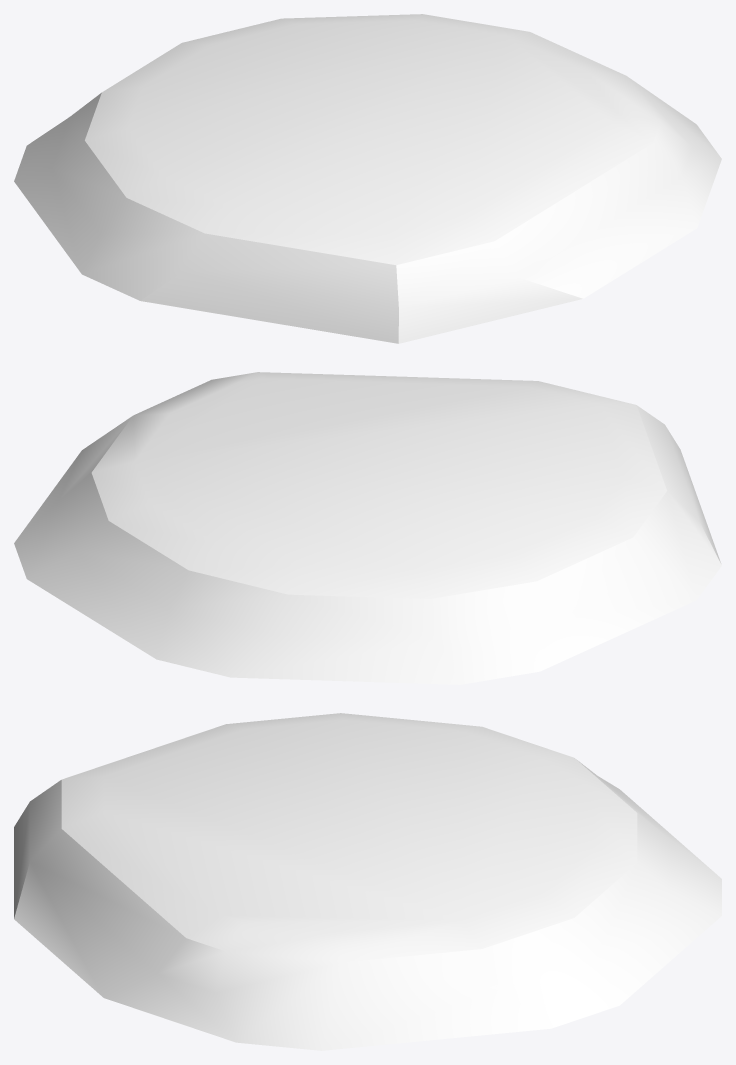
Rendered from RockSmall003.fbx.
3 views of the same model, one above another, from view 1: azimuth 30°, elevation 25°; view 2: azimuth 150°, elevation 25°; view 3: azimuth 270°, elevation 25° (orthographic). The views are drawn at different scales.
Visible parts, largest first — view 1: RockSmall003; view 2: RockSmall003; view 3: RockSmall003.
Part boxes in pixels (x1,y1,x2,y2): RockSmall003: (14, 14, 721, 343); RockSmall003: (14, 372, 721, 684); RockSmall003: (14, 713, 721, 1050).
Size of the model in its own units: 222 by 23.52 by 217.
